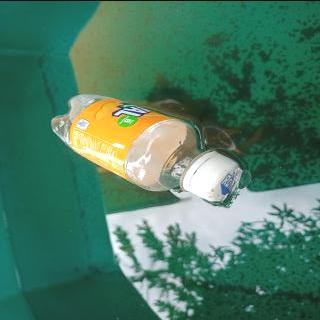bottle: (48, 90, 244, 203)
